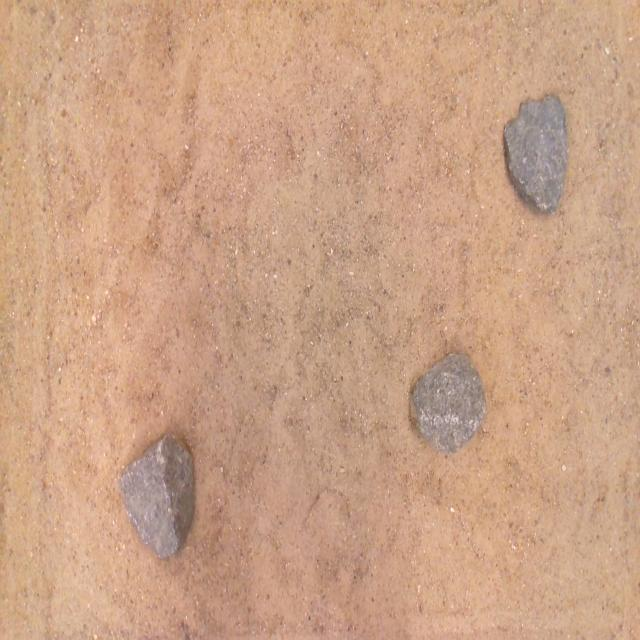rock: (120, 434, 194, 556), (504, 95, 567, 212), (413, 354, 486, 452)
